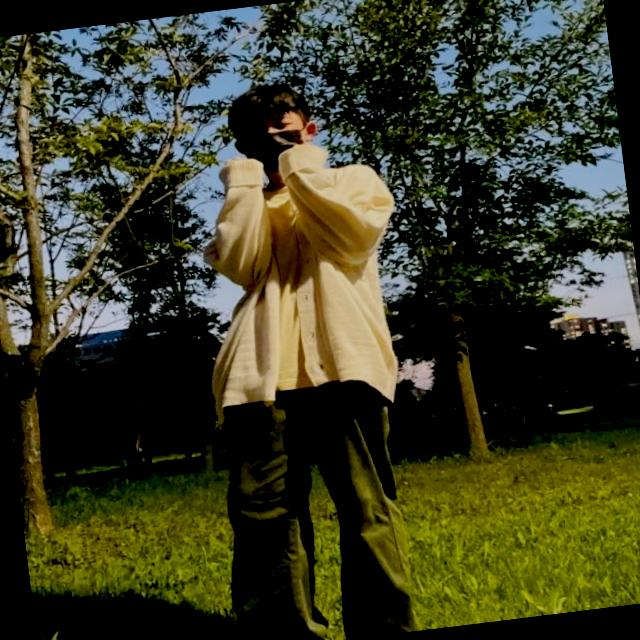cardigan: (178, 138, 418, 428)
cottonpants: (203, 366, 428, 640)
